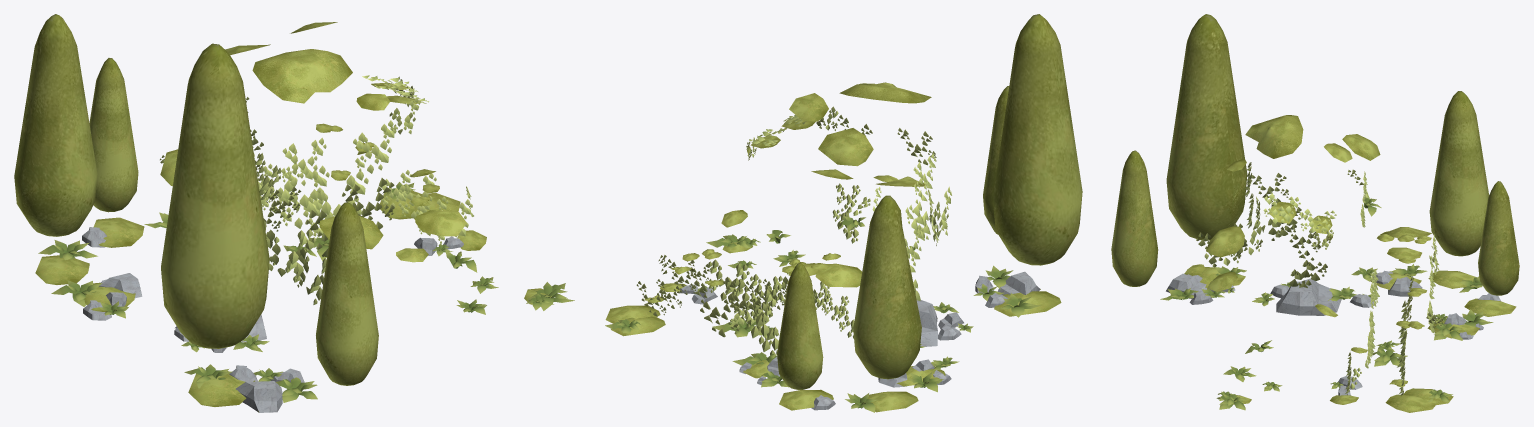
Rendered from greek_sculptor_cypress_trees.glb.
The picture shows the model from 3 angles, left to right: view 1: azimuth 30°, elevation 25°; view 2: azimuth 150°, elevation 25°; view 3: azimuth 270°, elevation 25°; orthographic projection. The views are drawn at different scales.
Visible parts, largest first — view 1: ambientLight4_VegetationTEX_0; view 2: ambientLight4_VegetationTEX_0; view 3: ambientLight4_VegetationTEX_0.
Boxes of the visible parts, left/top/right/bottom form: ambientLight4_VegetationTEX_0: left=14, top=14, right=574, bottom=412; ambientLight4_VegetationTEX_0: left=605, top=14, right=1082, bottom=412; ambientLight4_VegetationTEX_0: left=1111, top=14, right=1519, bottom=412.
Size of the model in its own units: 8.61 by 6.88 by 9.56.
Materials: 1 (1 with a texture image).
